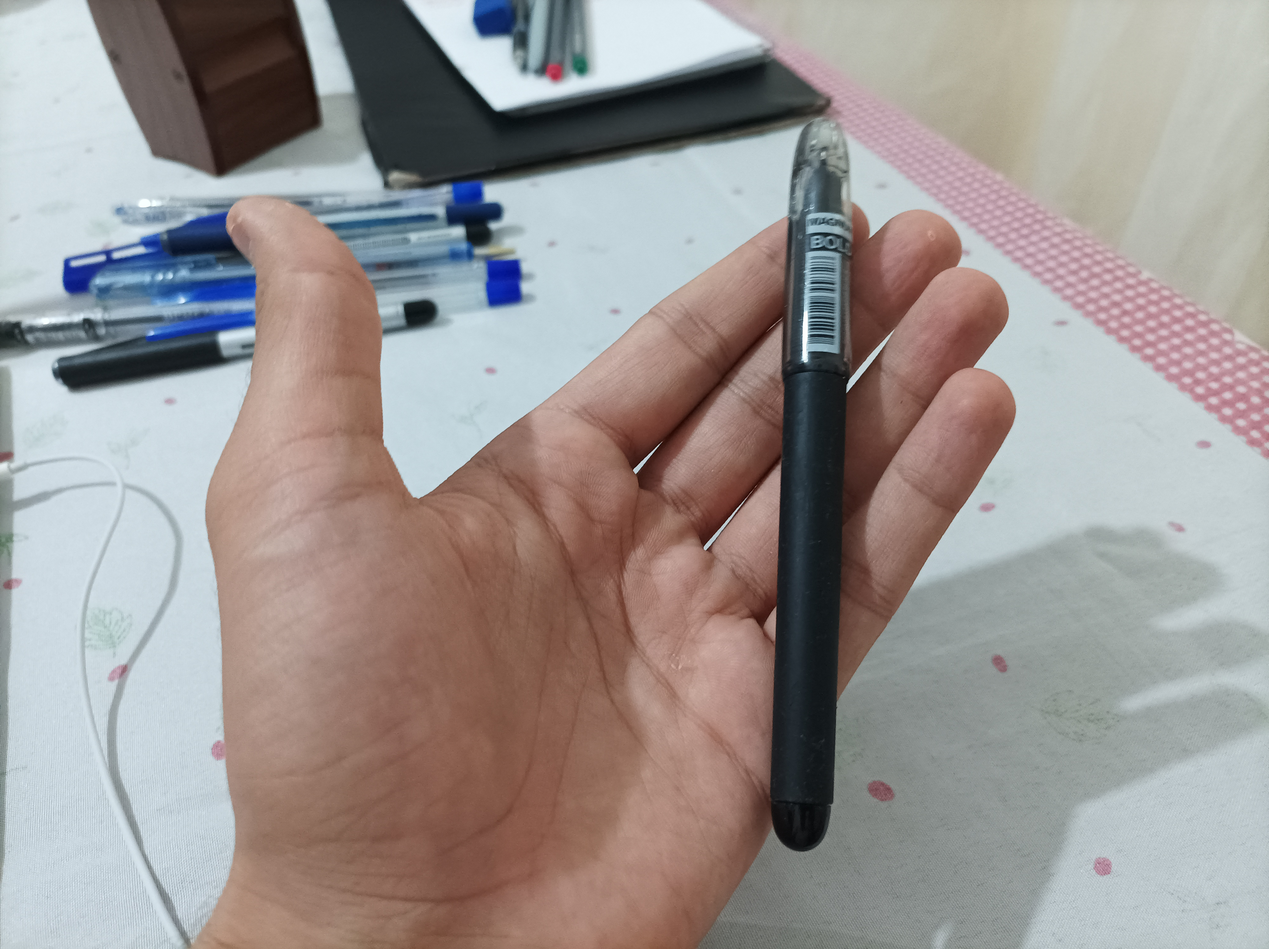plastic: (778, 121, 854, 856)
